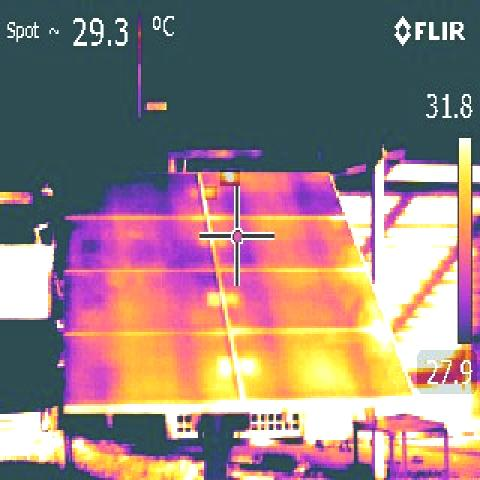fault: (238, 352, 256, 382), (372, 326, 392, 352), (217, 356, 231, 380), (220, 170, 240, 186), (225, 292, 240, 306), (207, 292, 221, 306), (206, 186, 218, 200)
